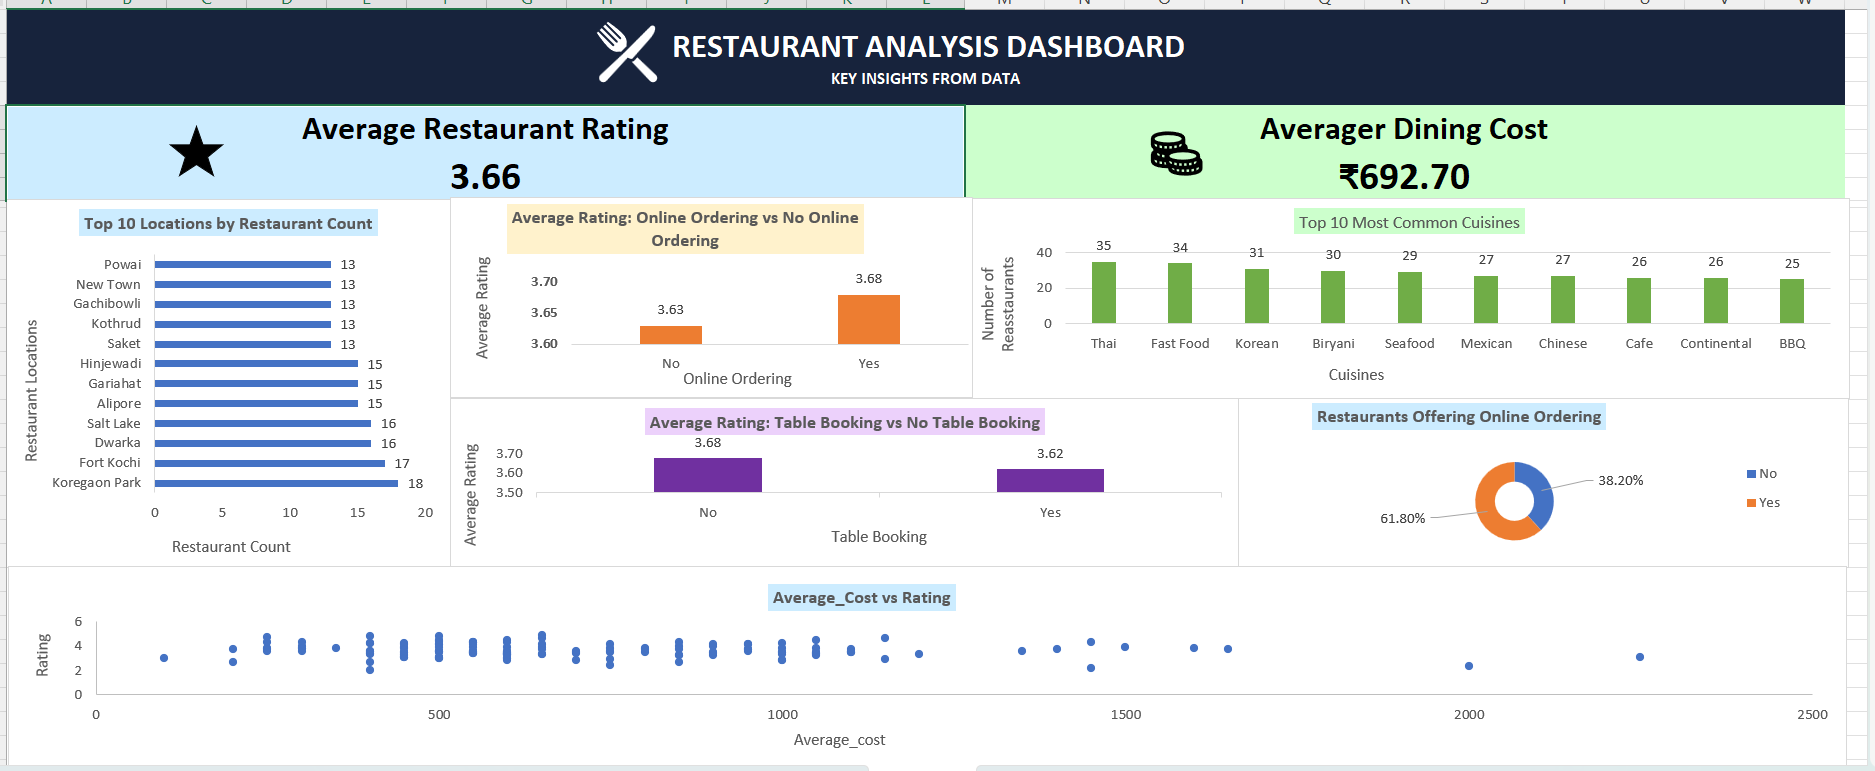

This screenshot's page, from the dashboard's own definition file:
{"tool":"powerbi","page":{"name":"Restaurant Performance","canvas":[1280,720],"ordinal":1},"visuals":[{"type":"clusteredBarChart","title":"Total Revenue by Restaurant Name","fields":{"Category":["restaurants.Restaurant_Name"],"Y":["orders.Total Revenue"]},"box":[0,87.8,466.6,209.9],"z":0},{"type":"clusteredBarChart","fields":{"Category":["cuisines.Cuisine"],"Y":["restaurants.Total Restaurants"]},"box":[466.6,87.8,413,209.9],"z":1000},{"type":"pieChart","title":"Total Restaurants by Online Ordering","fields":{"Category":["restaurants.Online_Order"],"Y":["restaurants.Total Restaurants"]},"box":[0,487.1,315.6,174.3],"z":2000},{"type":"clusteredColumnChart","title":"Total Restaurants by Restaurant Type","fields":{"Category":["restaurants.Restaurant_Type"],"Y":["restaurants.Total Restaurants"]},"box":[879.6,87.8,400.7,209.9],"z":3000},{"type":"slicer","fields":{"Values":["restaurants.Restaurant_Type"]},"box":[269,661.4,259.3,57.6],"z":4000},{"type":"slicer","fields":{"Values":["cuisines.Cuisine"]},"box":[528.3,661.4,262.1,57.6],"z":5000},{"type":"actionButton","title":"Reset Filters – Restaurant Performance","box":[1063.5,661.4,216.8,57.6],"z":6000},{"type":"scatterChart","title":"Rating vs Average Cost","fields":{"X":["Avg(restaurants.Average_Cost)"],"Y":["restaurants.Average Rating"],"Category":["restaurants.Restaurant_Name"]},"box":[0,297.8,993.5,189.4],"z":7000},{"type":"donutChart","title":"Restaurants by Table Booking","fields":{"Category":["restaurants.Table_Booking"],"Y":["restaurants.Total Restaurants"]},"box":[993.5,297.8,286.8,189.4],"z":8000},{"type":"slicer","fields":{"Values":["locations.City"]},"box":[0,661.4,269,57.6],"z":9000},{"type":"slicer","fields":{"Values":["locations.Location"]},"box":[790.4,661.4,273.1,57.6],"z":10000},{"type":"clusteredBarChart","title":"Top 10 Restaurants by Customer Votes","fields":{"Category":["restaurants.Restaurant_Name"],"Y":["Sum(restaurants.Votes)"]},"box":[315.6,487.1,964.7,174.3],"z":11000},{"type":"textbox","box":[0,0,1280.3,87.8],"z":12000},{"type":"image","box":[15.1,6.9,72.7,75.5],"z":13000},{"type":"image","box":[1092.3,0,78.2,87.8],"z":14000},{"type":"image","box":[1145.8,11,93.3,76.8],"z":15000},{"type":"image","box":[1063.5,671,57.6,38.4],"z":16000}]}

Visuals, with their boxes on the page's 1280x720 design canvas (x1, y1, x2, y2). These are canvas units, not pixel positions in the 1875x771 screenshot, which may show the page scaled, cropped or inside an application window:
"Total Revenue by Restaurant Name" clusteredBarChart: detection(0, 88, 467, 298)
clusteredBarChart - cuisines.Cuisine x restaurants.Total Restaurants: detection(467, 88, 880, 298)
"Total Restaurants by Online Ordering" pieChart: detection(0, 487, 316, 661)
"Total Restaurants by Restaurant Type" clusteredColumnChart: detection(880, 88, 1280, 298)
slicer - restaurants.Restaurant_Type: detection(269, 661, 528, 719)
slicer - cuisines.Cuisine: detection(528, 661, 790, 719)
"Reset Filters – Restaurant Performance" actionButton: detection(1064, 661, 1280, 719)
"Rating vs Average Cost" scatterChart: detection(0, 298, 994, 487)
"Restaurants by Table Booking" donutChart: detection(994, 298, 1280, 487)
slicer - locations.City: detection(0, 661, 269, 719)
slicer - locations.Location: detection(790, 661, 1064, 719)
"Top 10 Restaurants by Customer Votes" clusteredBarChart: detection(316, 487, 1280, 661)
textbox: detection(0, 0, 1280, 88)
image: detection(15, 7, 88, 82)
image: detection(1092, 0, 1170, 88)
image: detection(1146, 11, 1239, 88)
image: detection(1064, 671, 1121, 709)
